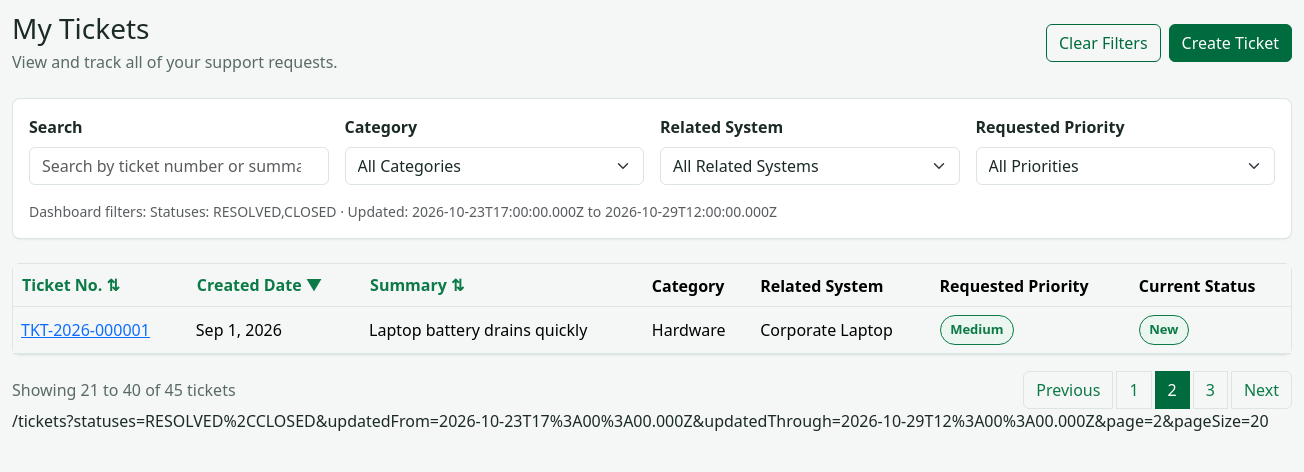
Test: My Tickets — list › round-trips Dashboard filters, page size, search, sort, and page through the URL
Type "VPN" into the search field labelled "Search". click: (179, 166)
box: x1=29 y1=147 x2=328 y2=185
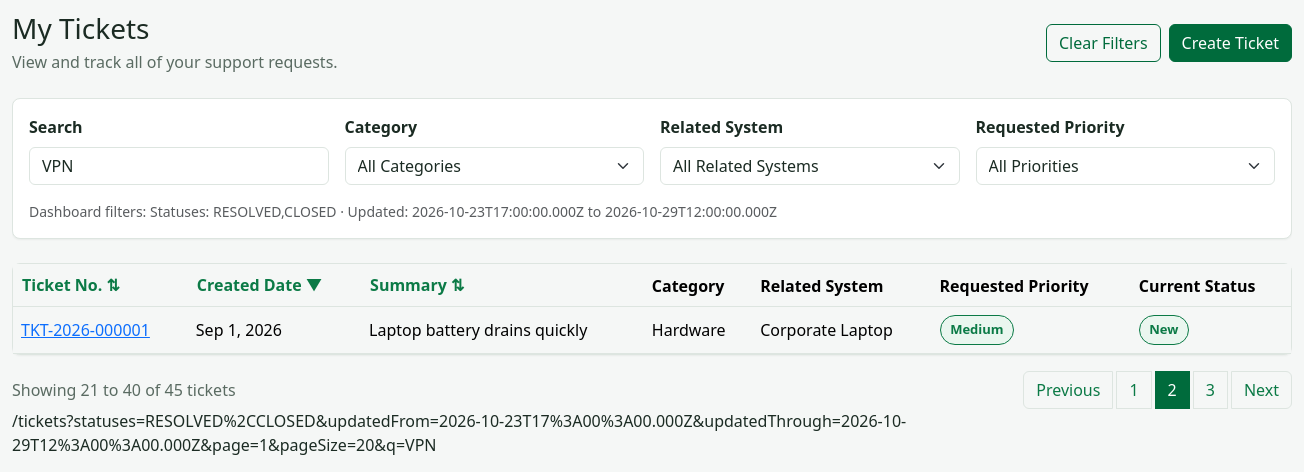
Check: the text with test id "location" shows "q=VPN", box x1=12 y1=410 x2=906 y2=456
Click the button "Summary ⇅". click: (417, 285)
box: x1=369 y1=272 x2=466 y2=298
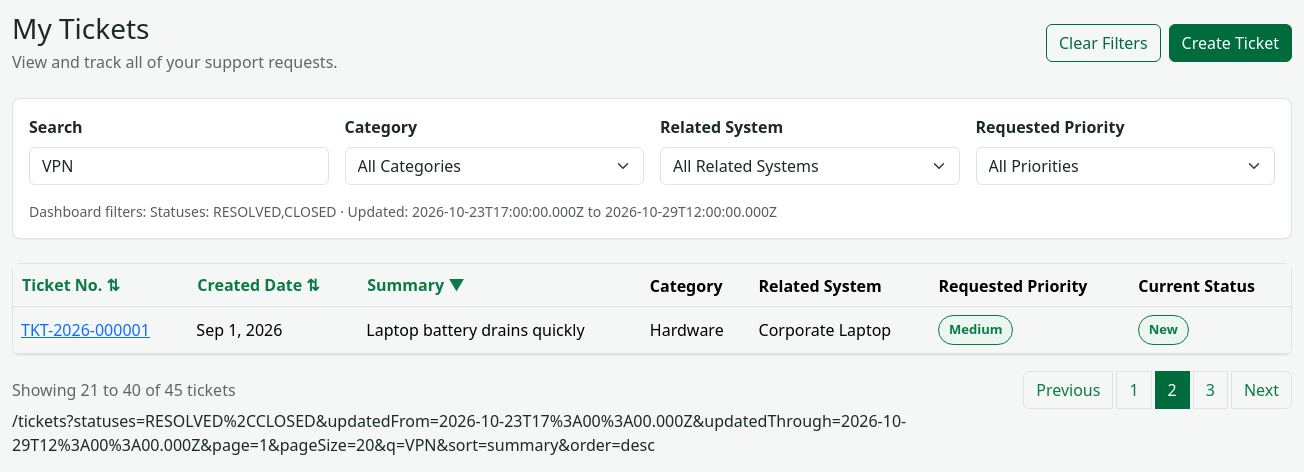
Check: the text with test id "location" shows "sort=summary", box x1=12 y1=410 x2=906 y2=456
